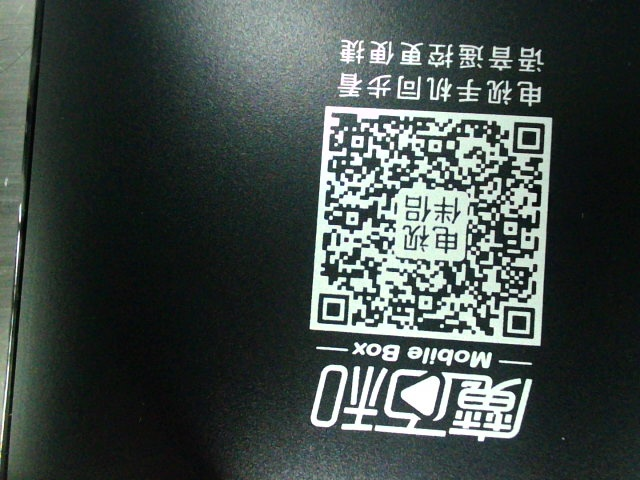AZ_MobileBox: (305, 33, 559, 445)
